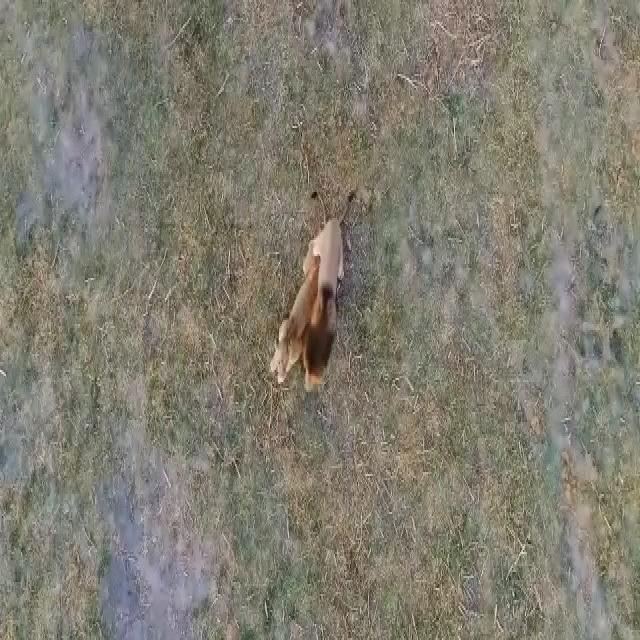Lion: (305, 220, 351, 390), (267, 273, 307, 383)
